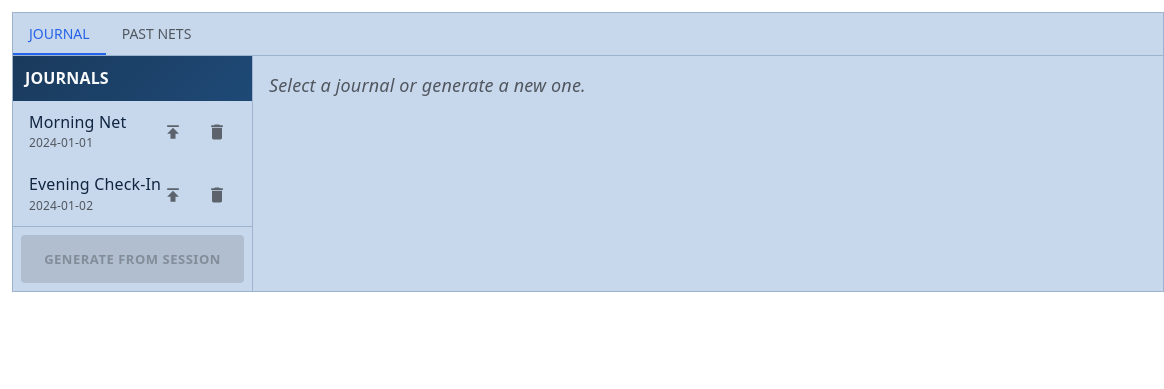
Test case: JournalPanel › journal selection › shows journal detail when journal clicked
This screenshot has width=1164, height=389.
Click the text "Morning Net". click: (78, 122)
box: [29,110,126,132]
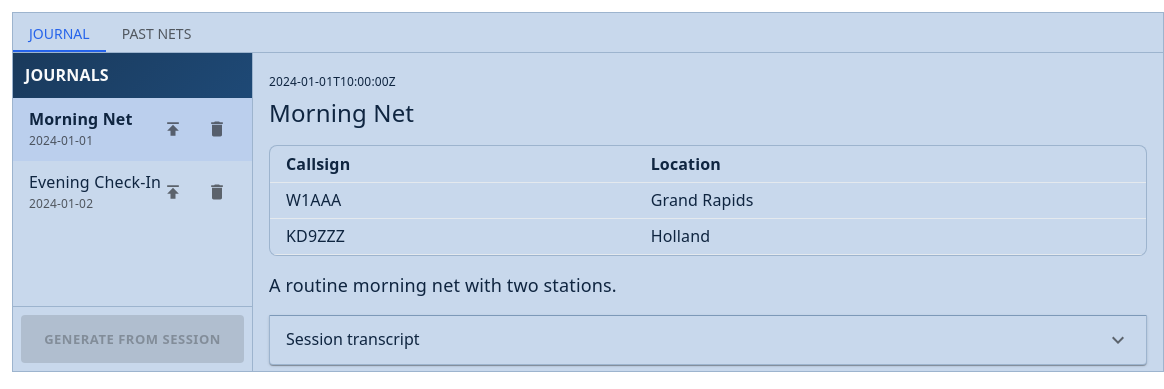
expect the text "A routine morning net with two stations." is shown: met, box [269,273,617,297]
